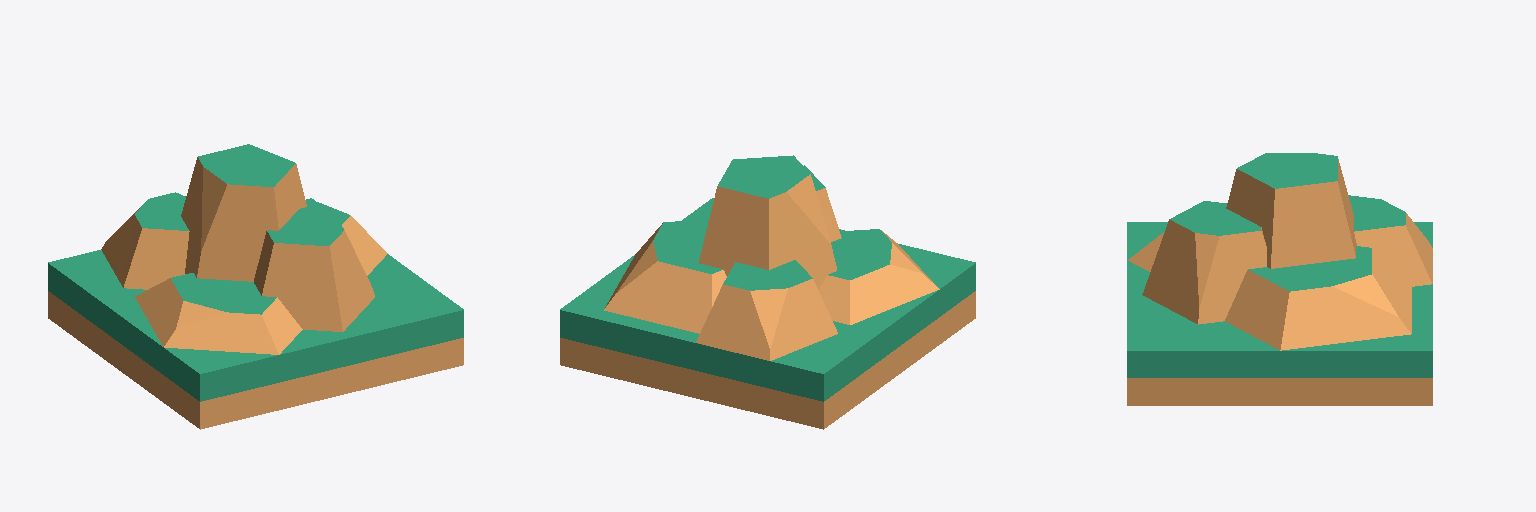
Rendered from tile_rock.obj.
The picture shows the model from 3 angles: view 1: azimuth 30°, elevation 25°; view 2: azimuth 150°, elevation 25°; view 3: azimuth 270°, elevation 25°; orthographic projection.
Visible parts, largest first — view 1: rocks, tile_rock; view 2: rocks, tile_rock; view 3: rocks, tile_rock.
Boxes of the visible parts, <box> form: rocks: <box>101,144,387,354</box>; tile_rock: <box>48,198,463,429</box>; rocks: <box>604,155,939,360</box>; tile_rock: <box>560,198,975,429</box>; rocks: <box>1128,153,1432,350</box>; tile_rock: <box>1127,222,1432,405</box>.
Size of the model in its own units: 1 by 0.6186 by 1.